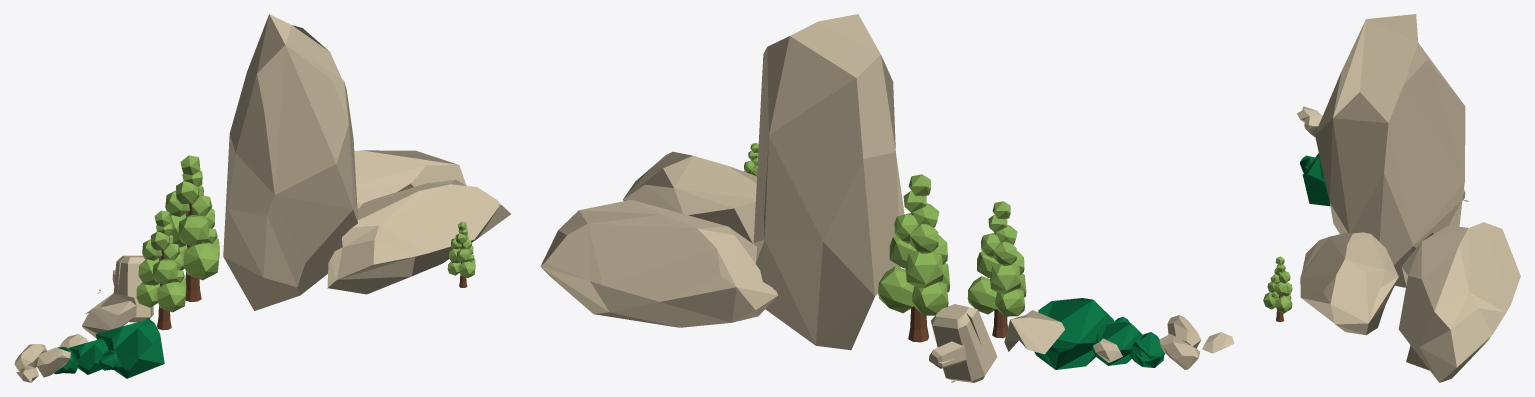
Rendered from Bigstone.glb.
The picture shows the model from 3 angles, left to right: view 1: azimuth 30°, elevation 25°; view 2: azimuth 150°, elevation 25°; view 3: azimuth 270°, elevation 25°; orthographic projection. The views are drawn at different scales.
Parts seen in each view (by area): view 1: polySurface7790; view 2: polySurface7790; view 3: polySurface7790.
Part boxes in pixels (bbox=[...]): polySurface7790: bbox=[14, 14, 510, 382]; polySurface7790: bbox=[540, 14, 1234, 382]; polySurface7790: bbox=[1263, 14, 1520, 382].
Size of the model in its own units: 38.92 by 20.26 by 16.85.
